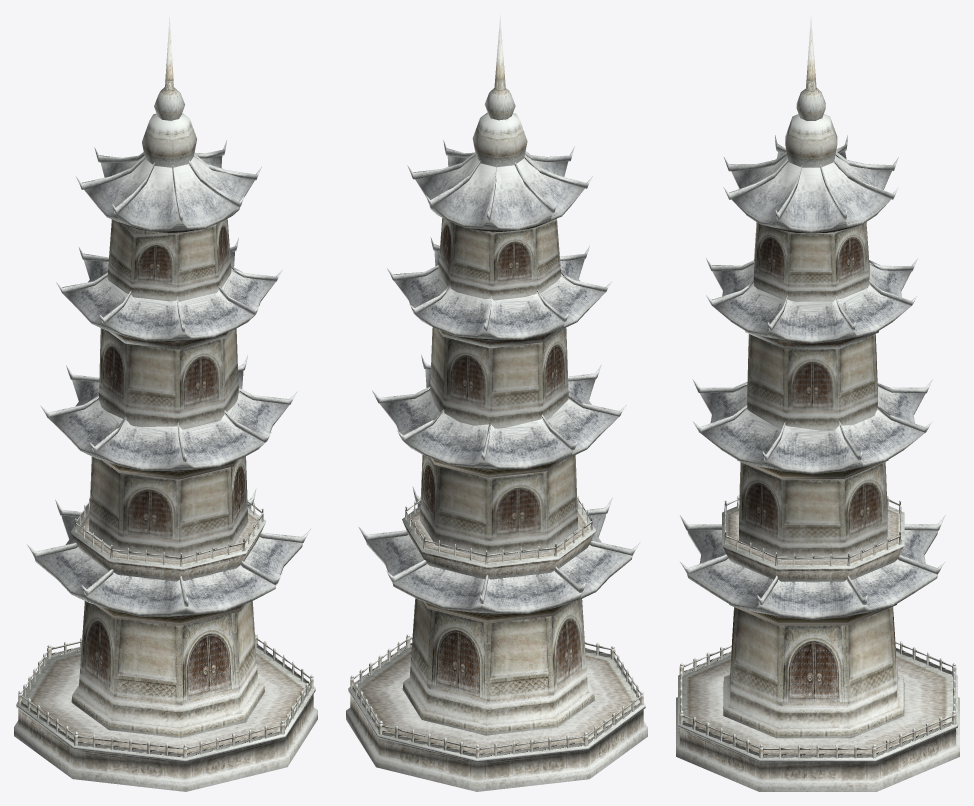
The model's file is snow_tower01_lod_01.fbx.
The picture shows the model from 3 angles, left to right: view 1: azimuth 30°, elevation 25°; view 2: azimuth 150°, elevation 25°; view 3: azimuth 270°, elevation 25°; orthographic projection.
Parts seen in each view (by area): view 1: snow_tower02_02, snow_tower02_03, snow_tower02_01; view 2: snow_tower02_02, snow_tower02_03, snow_tower02_01; view 3: snow_tower02_02, snow_tower02_03, snow_tower02_01.
Part boxes in pixels (box(x1,y1,x2,y2)): snow_tower02_02: box(27, 113, 310, 738); snow_tower02_03: box(34, 17, 302, 625); snow_tower02_01: box(14, 497, 317, 791); snow_tower02_02: box(358, 112, 640, 735); snow_tower02_03: box(366, 15, 632, 623); snow_tower02_01: box(346, 495, 647, 791); snow_tower02_02: box(680, 114, 945, 738); snow_tower02_03: box(687, 15, 937, 625); snow_tower02_01: box(676, 496, 959, 791).
Bounding box in the file's own units: 17.02 × 47.5 × 17.02.
